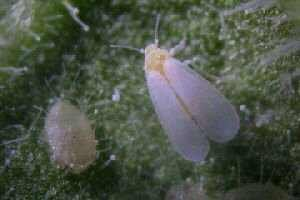whitefly: (110, 13, 242, 164)
